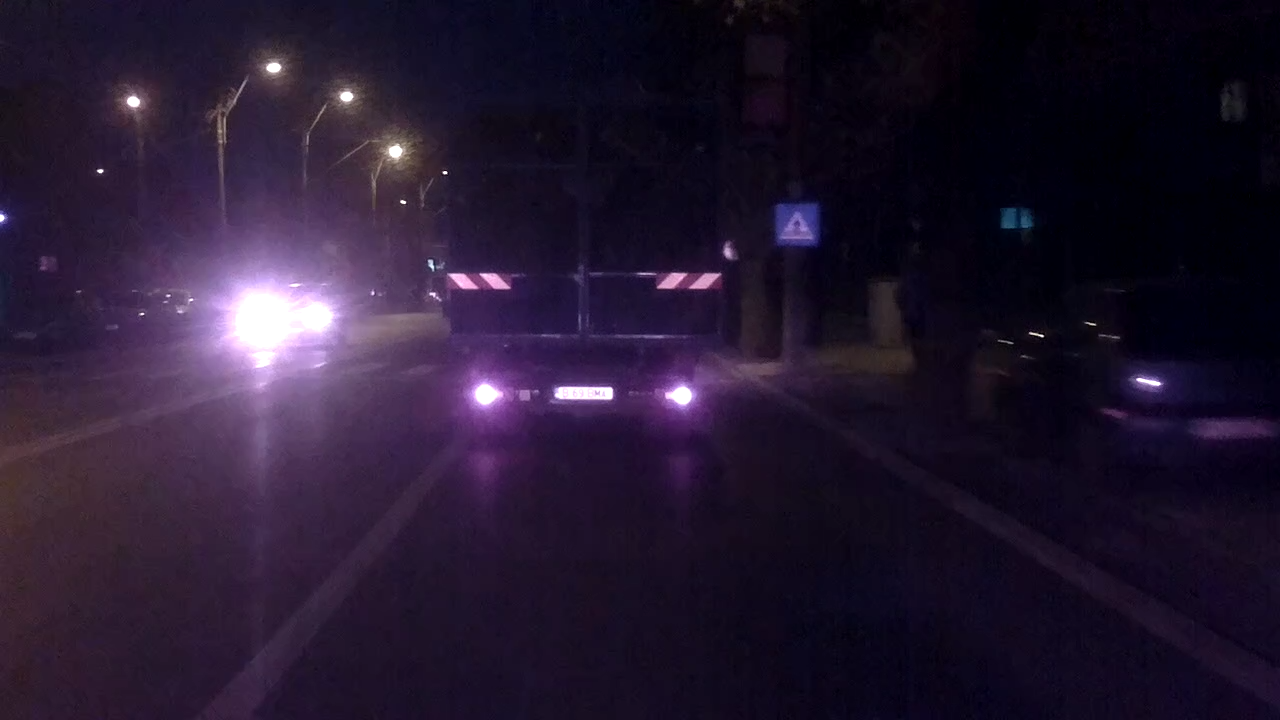license-plate: (550, 384, 616, 402)
